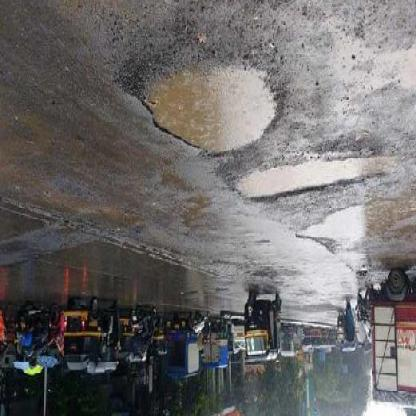pothole: (138, 65, 285, 163), (234, 157, 388, 207), (295, 195, 416, 247)
